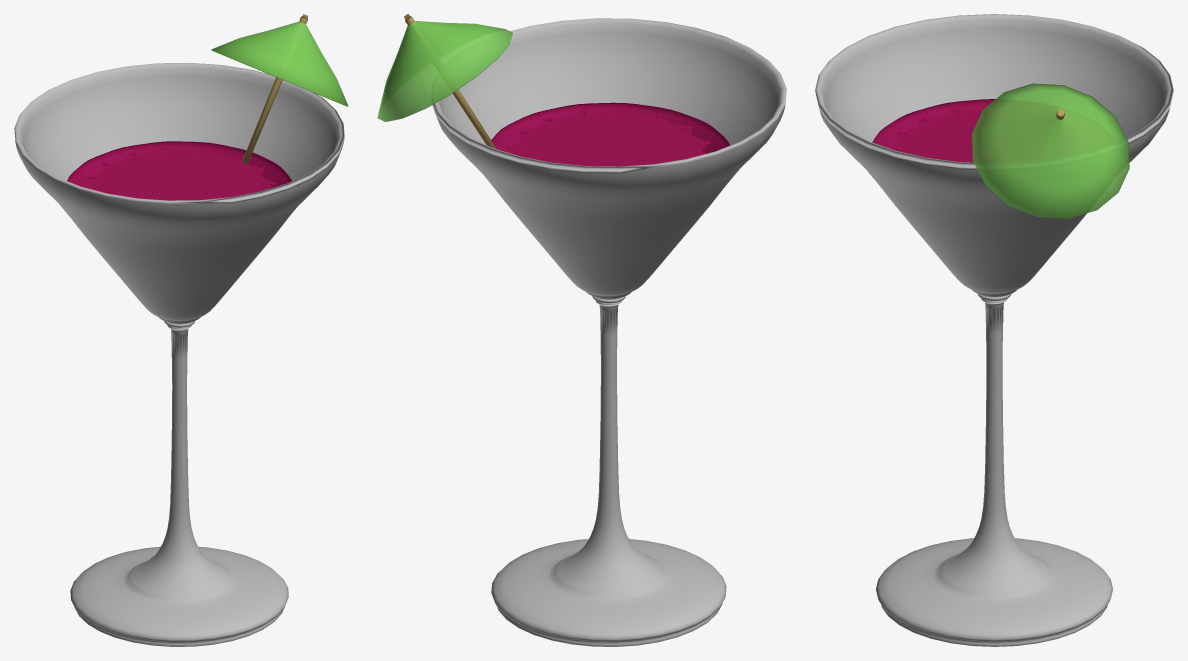
The model's file is cocktail.fbx.
3 renders of one model, left to right at view 1: azimuth 30°, elevation 25°; view 2: azimuth 150°, elevation 25°; view 3: azimuth 270°, elevation 25°, orthographic. The views are drawn at different scales.
Parts seen in each view (by area): view 1: cocktail_glass, cocktail_liquid, cocktail_umbrella, cocktail_umbrella_stick; view 2: cocktail_glass, cocktail_liquid, cocktail_umbrella, cocktail_umbrella_stick; view 3: cocktail_glass, cocktail_umbrella, cocktail_liquid.
Boxes of the visible parts, x1=… form: cocktail_glass: x1=14, y1=63, x2=344, y2=646; cocktail_liquid: x1=67, y1=141, x2=291, y2=200; cocktail_umbrella: x1=211, y1=21, x2=348, y2=106; cocktail_umbrella_stick: x1=242, y1=14, x2=307, y2=164; cocktail_glass: x1=432, y1=18, x2=786, y2=646; cocktail_liquid: x1=491, y1=102, x2=729, y2=166; cocktail_umbrella: x1=377, y1=20, x2=512, y2=121; cocktail_umbrella_stick: x1=404, y1=14, x2=496, y2=149; cocktail_glass: x1=815, y1=14, x2=1173, y2=646; cocktail_umbrella: x1=971, y1=83, x2=1129, y2=218; cocktail_liquid: x1=872, y1=99, x2=995, y2=162.
Bounding box in the file's own units: 0.6127 × 0.9534 × 0.5414.
